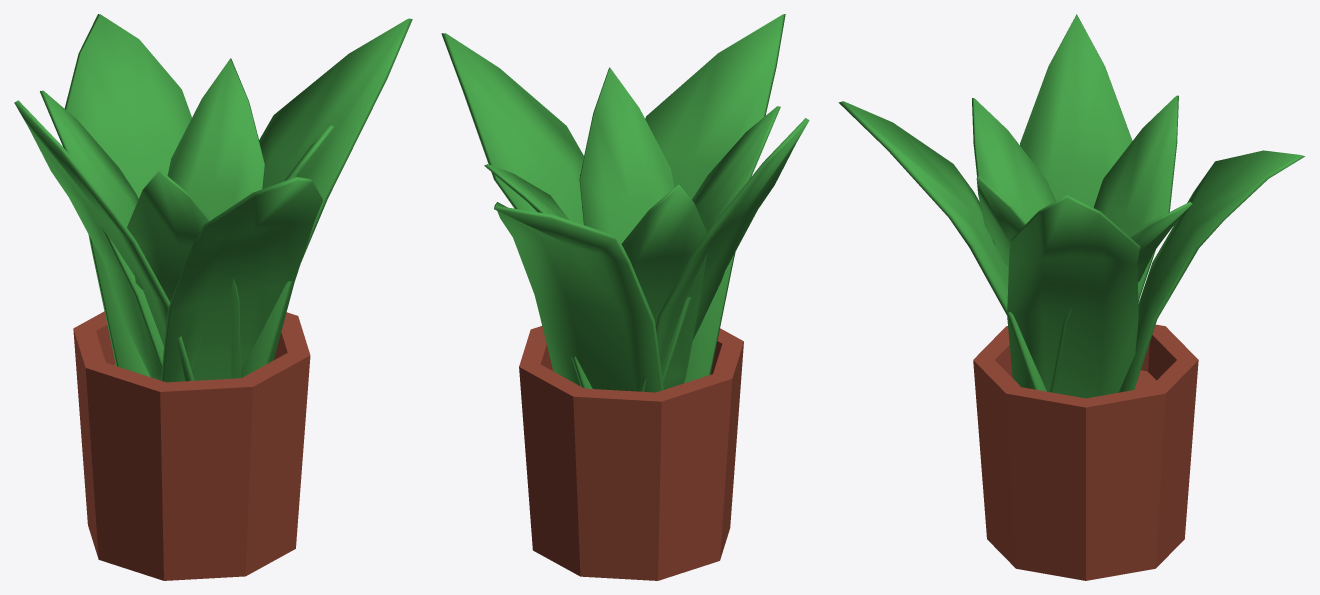
The model's file is Plant.glb.
The picture shows the model from 3 angles, left to right: view 1: azimuth 30°, elevation 25°; view 2: azimuth 150°, elevation 25°; view 3: azimuth 270°, elevation 25°; orthographic projection. The views are drawn at different scales.
Parts seen in each view (by area): view 1: Plane; view 2: Plane; view 3: Plane.
Part boxes in pixels (<box>): Plane: <box>14,14,412,580</box>; Plane: <box>441,14,809,580</box>; Plane: <box>838,14,1304,580</box>.
Size of the model in its own units: 1.84 by 2.16 by 2.06.
